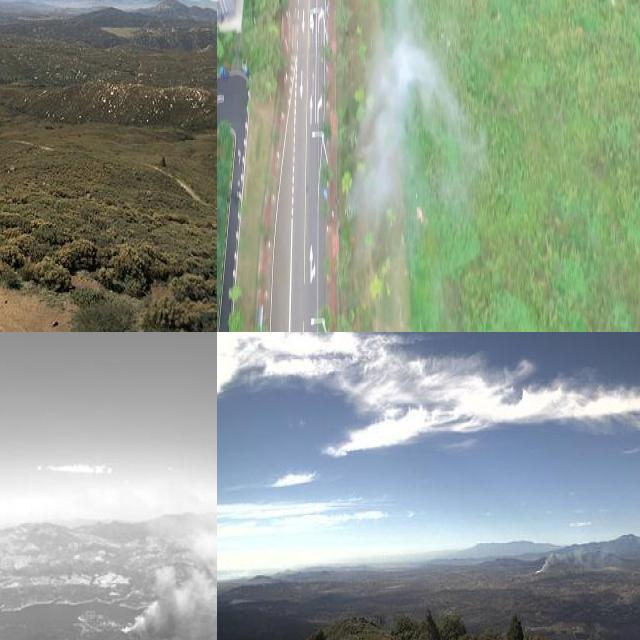smoke: (351, 37, 470, 234), (120, 495, 217, 637), (528, 539, 622, 578)
